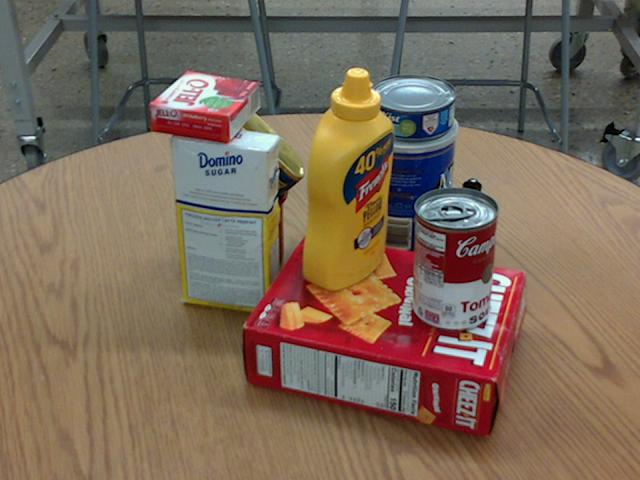cracker_box: (245, 232, 526, 436)
gelatin_box: (150, 70, 260, 141)
large_marker: (453, 178, 480, 290)
master_chef_can: (353, 102, 460, 266)
mug: (194, 167, 287, 274)
mustard_bottle: (302, 66, 393, 290)
potted_meat_can: (174, 102, 305, 230)
sugar_box: (169, 122, 280, 315)
tomato_soup_can: (412, 186, 499, 331)
tuna_fish_can: (370, 74, 456, 139)
